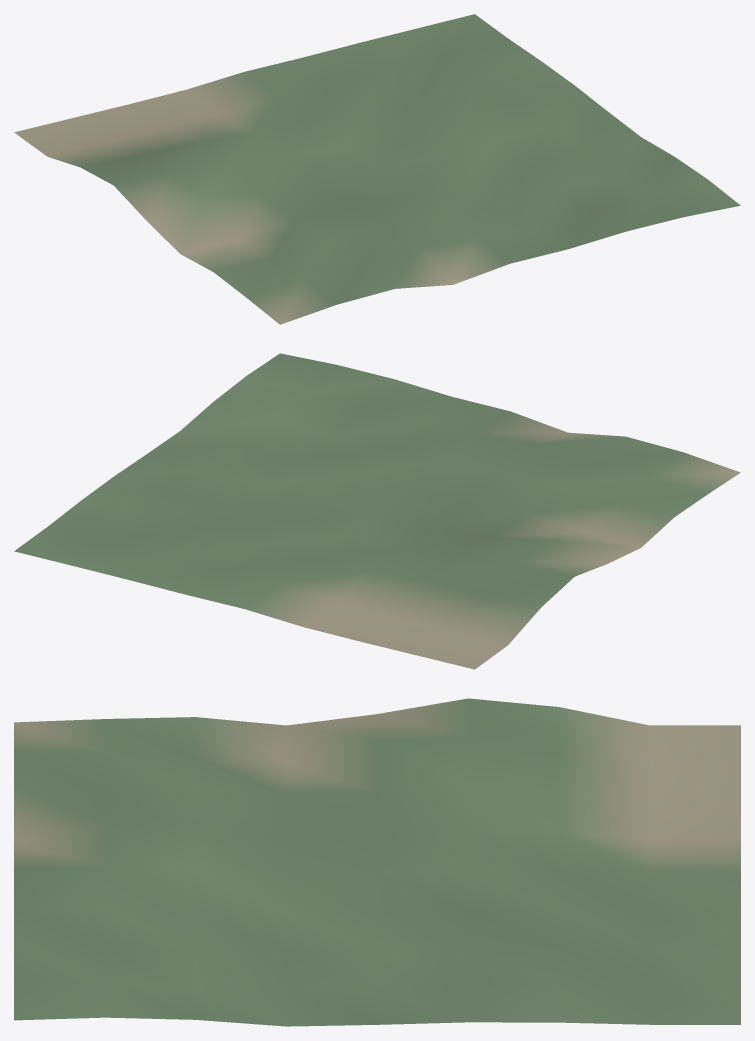
3 renders of one model, top to bottom at view 1: azimuth 30°, elevation 25°; view 2: azimuth 150°, elevation 25°; view 3: azimuth 270°, elevation 25°, orthographic. The views are drawn at different scales.
Parts seen in each view (by area): view 1: Lo; view 2: Lo; view 3: Lo.
Part boxes in pixels (x1=…): Lo: x1=14, y1=14, x2=740, y2=324; Lo: x1=14, y1=353, x2=740, y2=669; Lo: x1=14, y1=698, x2=740, y2=1026.
Size of the model in its own units: 256 by 10.52 by 256.
